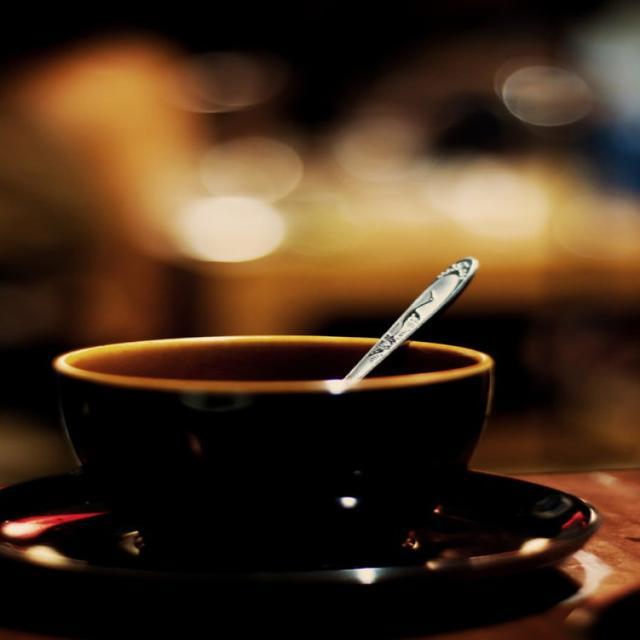Cup: (0, 292, 578, 639)
